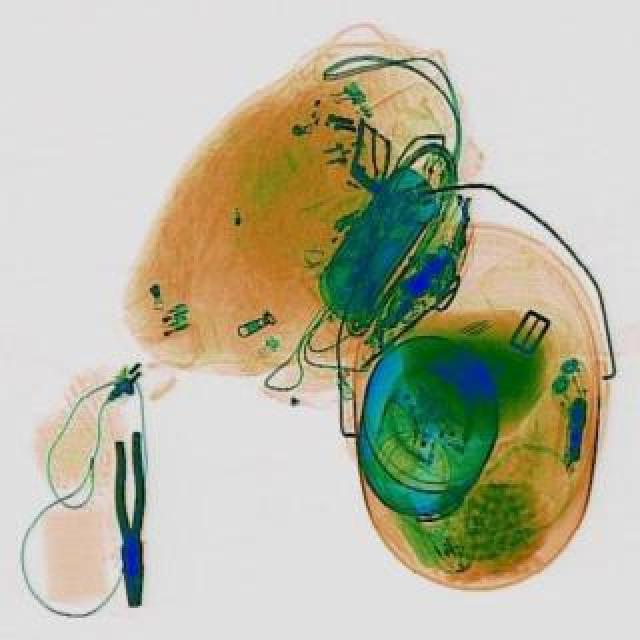wrench: (108, 428, 152, 606)
